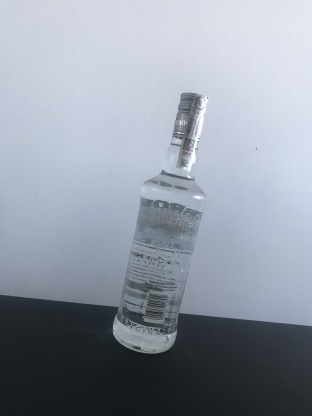nakretka: (170, 89, 210, 143)
